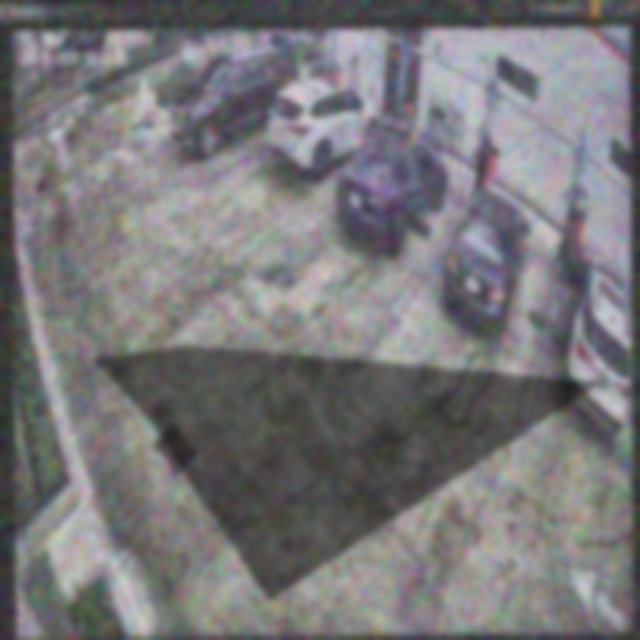Car: (336, 125, 450, 253), (444, 185, 532, 330), (266, 78, 382, 180)
